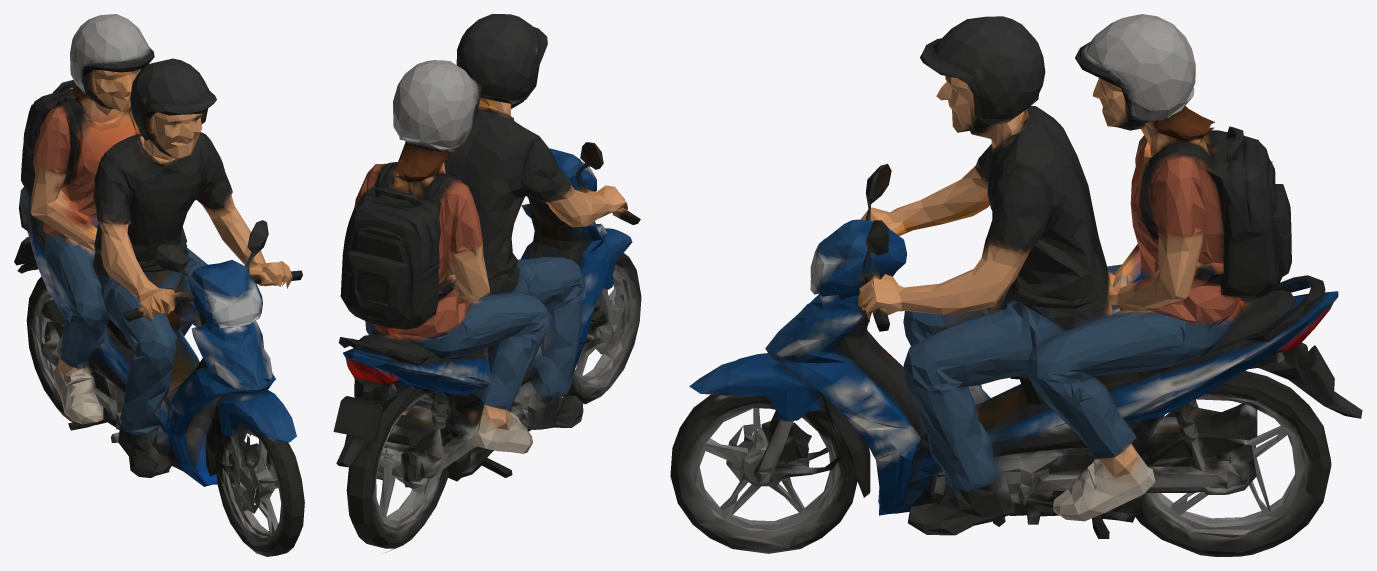
File: jupiter_mx.glb
3 views of the same model, side by side, from view 1: azimuth 30°, elevation 25°; view 2: azimuth 150°, elevation 25°; view 3: azimuth 270°, elevation 25° (orthographic). The views are drawn at different scales.
Visible parts, largest first — view 1: tripo_node_d758ecfc; view 2: tripo_node_d758ecfc; view 3: tripo_node_d758ecfc.
Boxes of the visible parts, x1,y1,x2,y2 form: tripo_node_d758ecfc: (14, 14, 304, 556); tripo_node_d758ecfc: (333, 14, 641, 555); tripo_node_d758ecfc: (670, 14, 1362, 556).
Size of the model in its own units: 37.39 by 84.92 by 99.97.
Materials: 1 (1 with a texture image).
